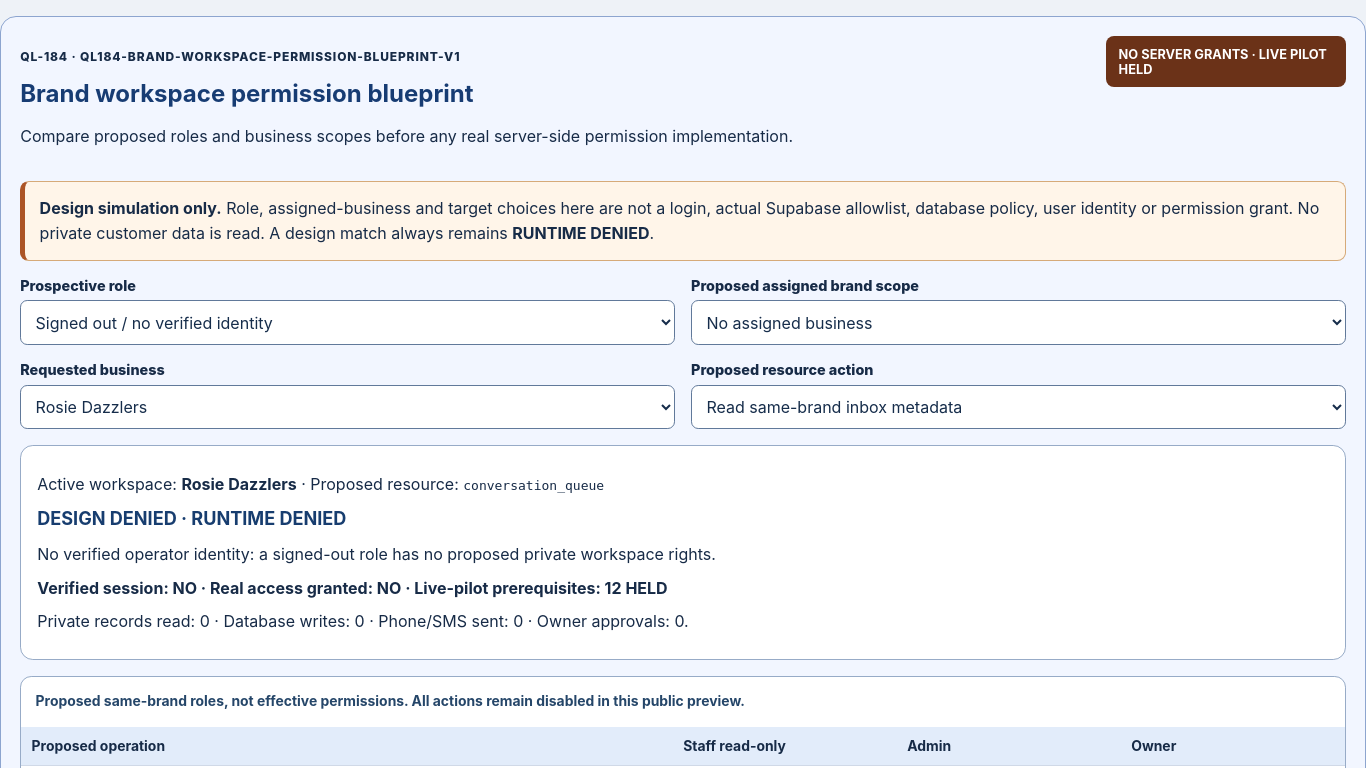
Test: QL-184 accessible synthetic permission preview › role, scope, target and action selections remain entirely in-memory and no real permissions appear
Step 1. Select "Admin (illustration)" in the dropdown labelled "Prospective role" → (348, 323), box [20,300,675,345]
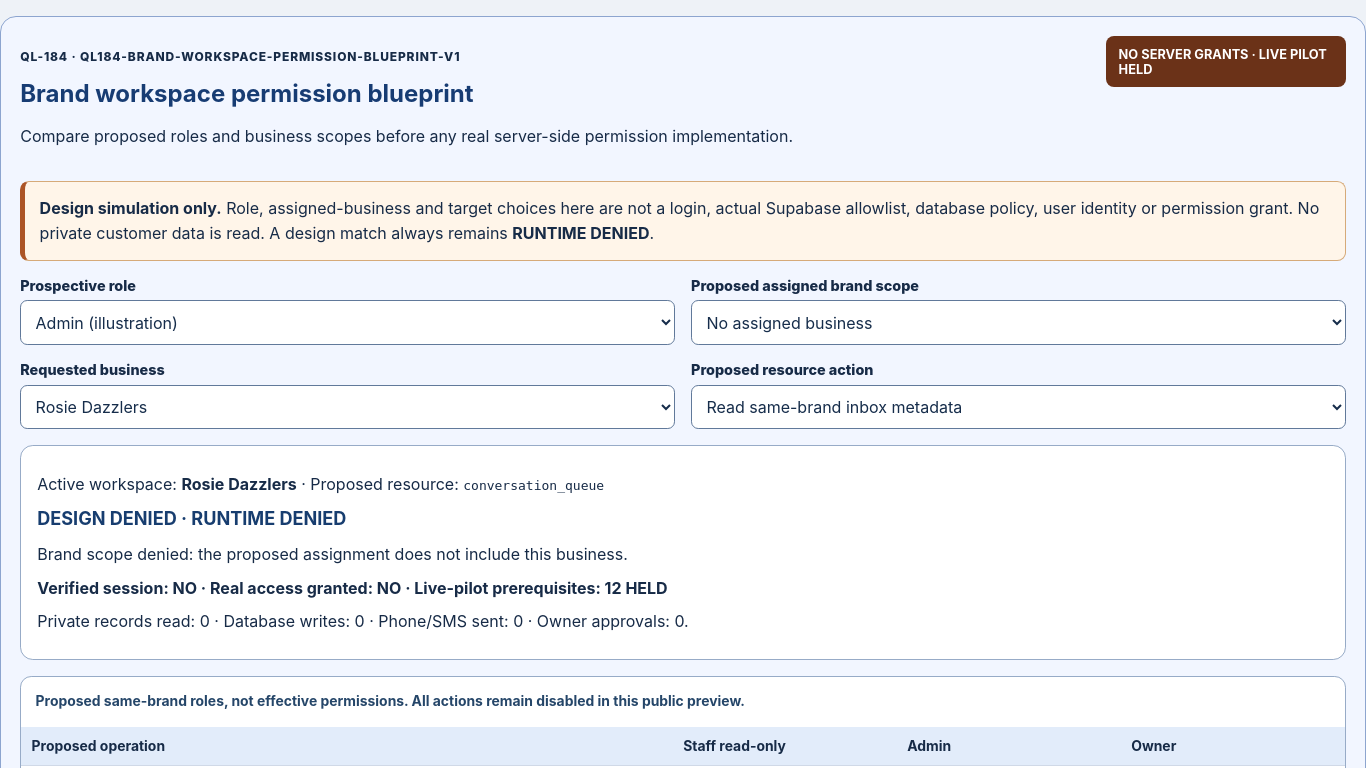
Step 2. Select "Rosie Dazzlers only" in the dropdown labelled "Proposed assigned brand scope" → (1018, 323), box [691,300,1346,345]
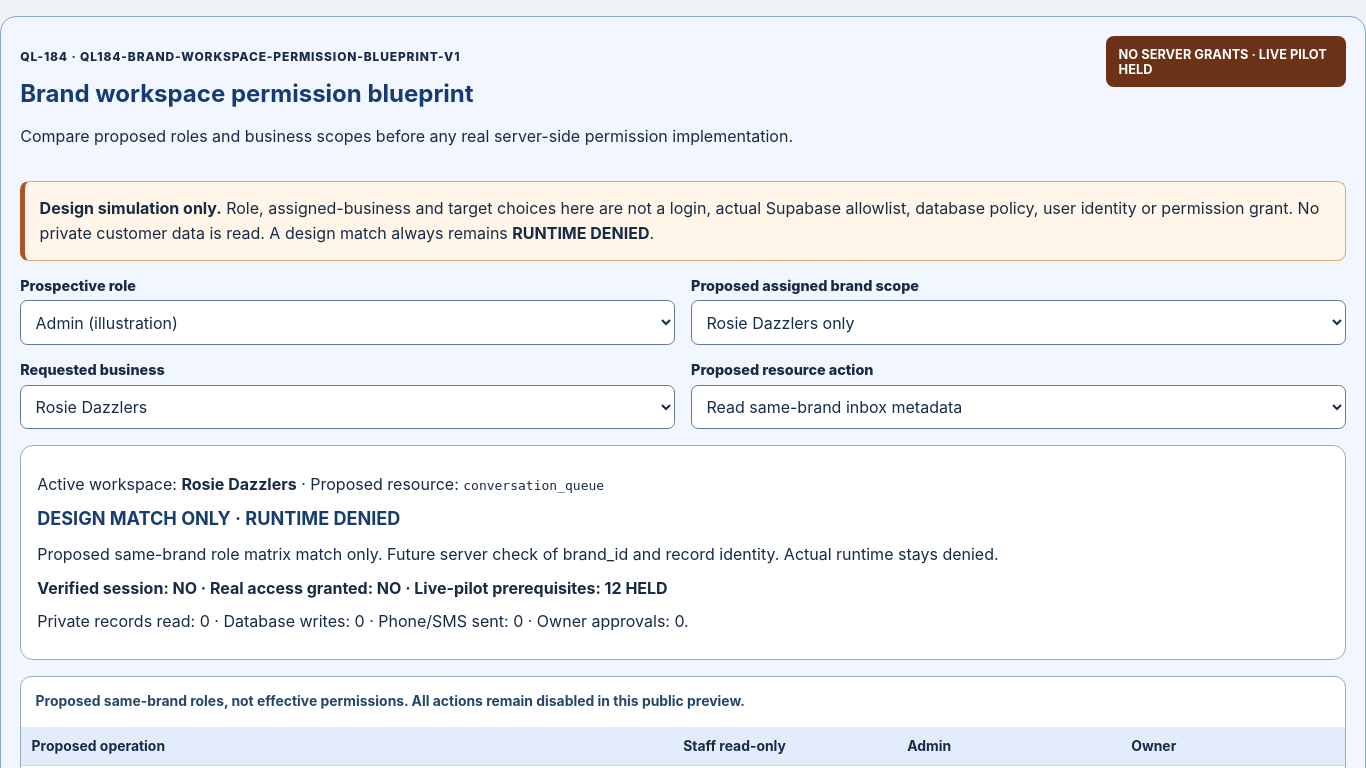
Step 3. Select "Propose an internal queue triage change" in the dropdown labelled "Proposed resource action" → (1018, 407), box [691,384,1346,429]
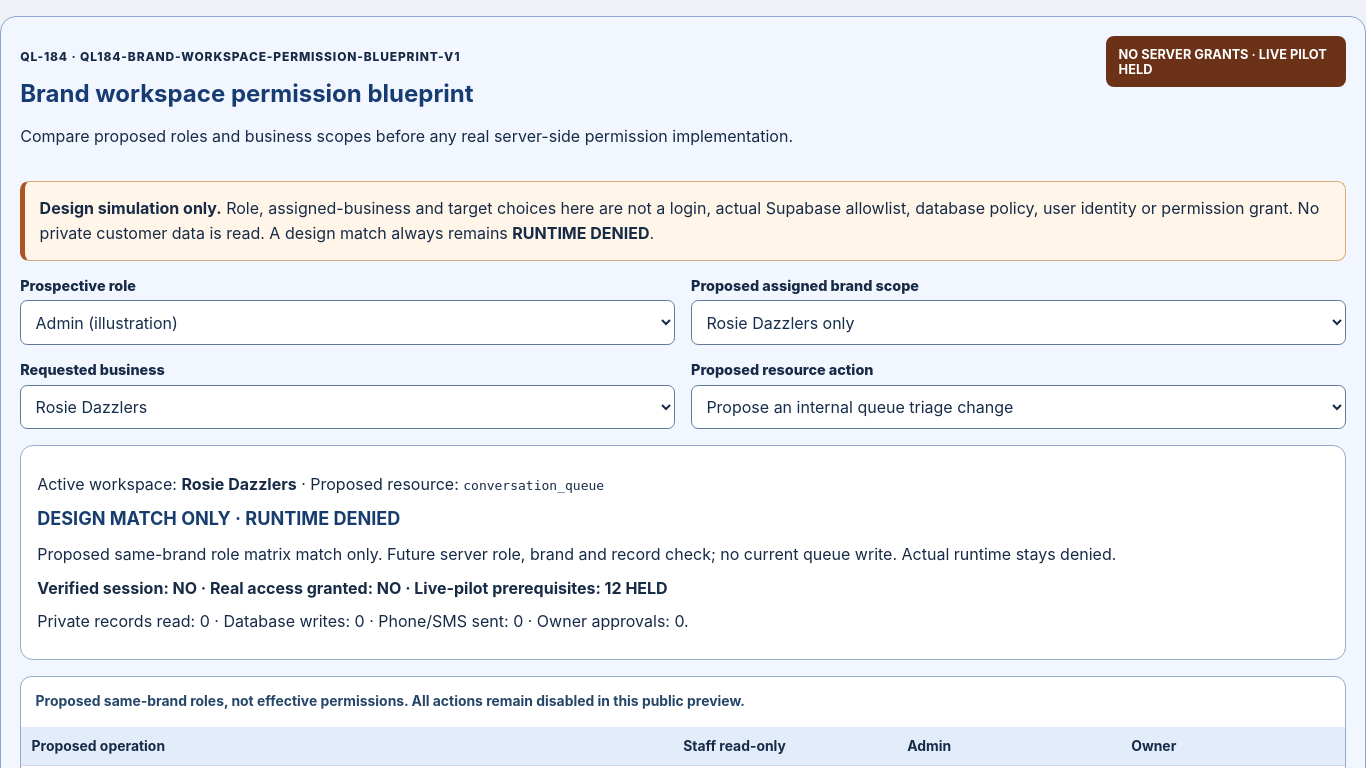
Check: the text "DESIGN MATCH ONLY · RUNTIME DENIED" is shown, box [37,508,400,530]
Step 4. Select "Devil n Dove" in the dropdown labelled "Requested business" → (348, 407), box [20,384,675,429]
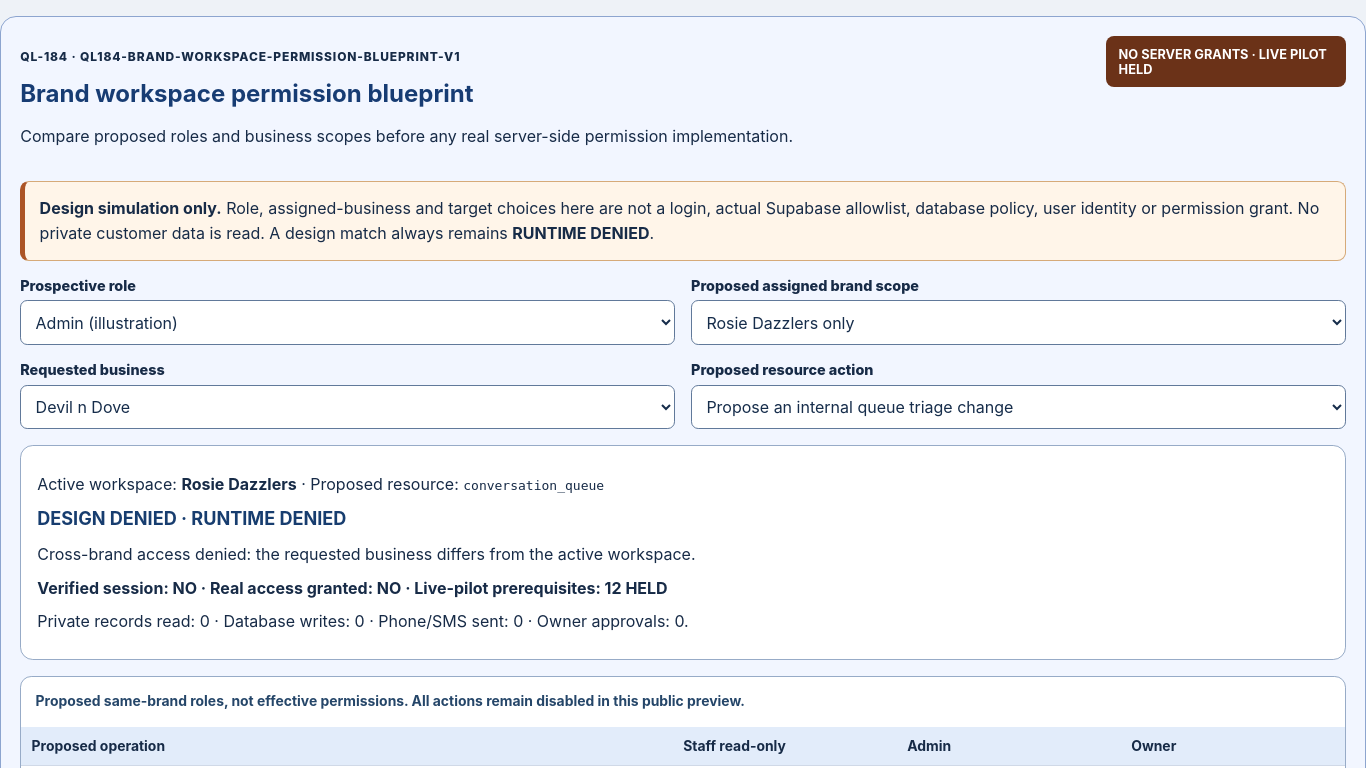
Check: the text "Cross-brand access denied" is shown, box [37,544,696,564]
Step 5. Select "Rosie Dazzlers" in the dropdown labelled "Requested business" → (348, 407), box [20,384,675,429]
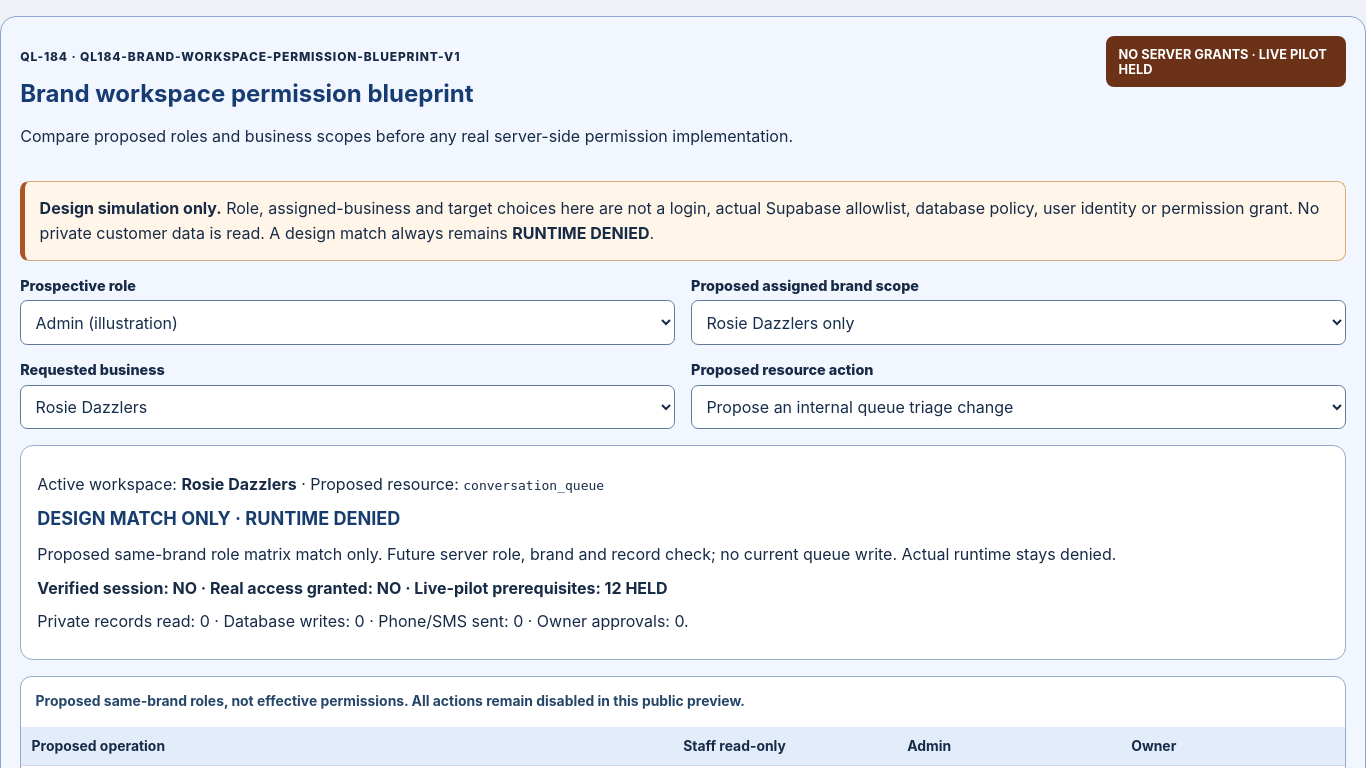
Step 6. Select "Send a live call or SMS" in the dropdown labelled "Proposed resource action" → (1018, 407), box [691,384,1346,429]
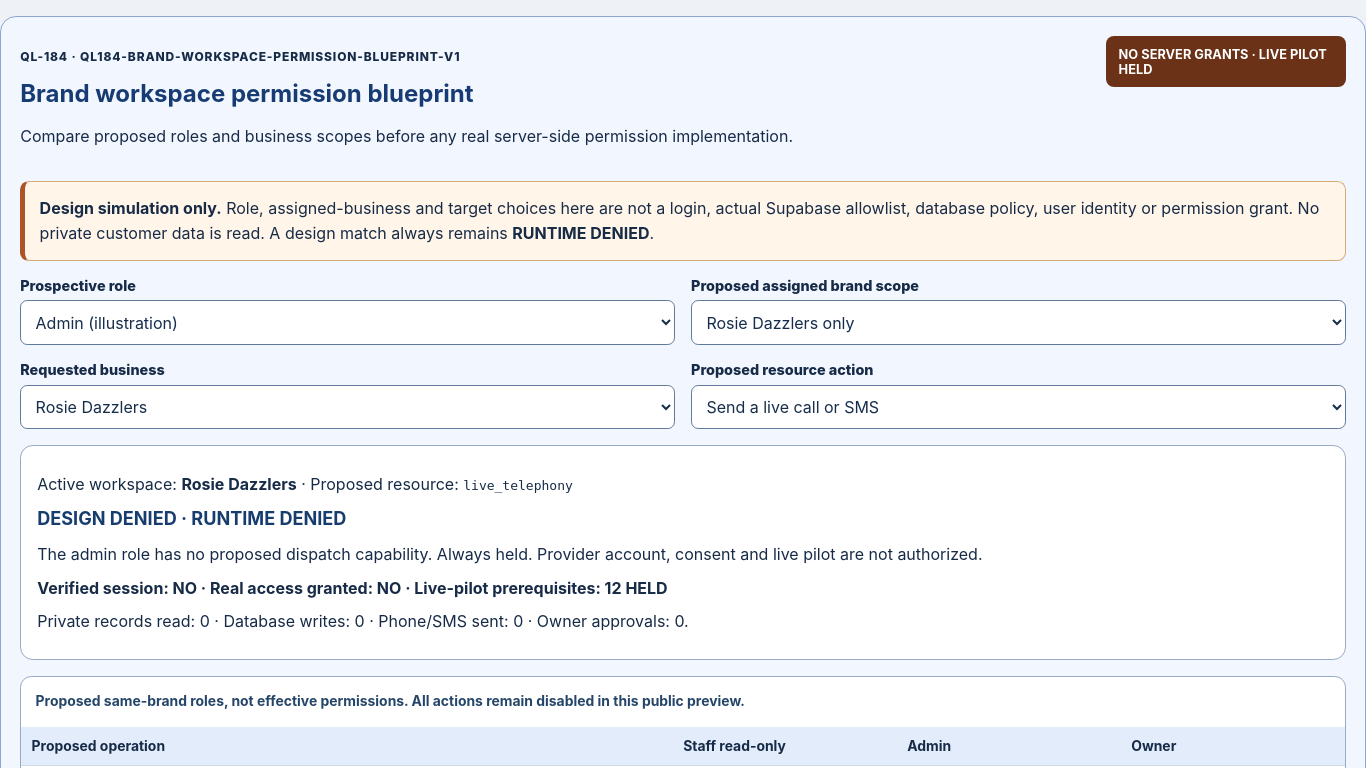
Check: the text "Phone/SMS sent: 0" is shown, box [37,611,689,631]
Check: the text "DESIGN DENIED · RUNTIME DENIED" is shown, box [37,508,346,530]
